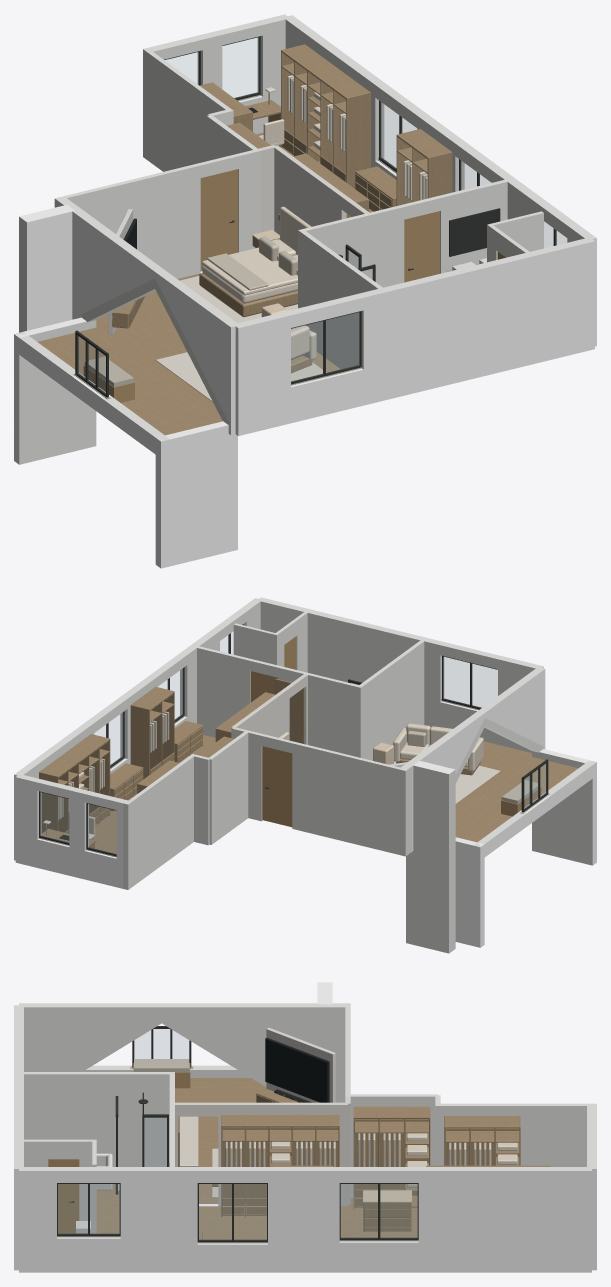
3 views of the same model, one above another, from view 1: azimuth 30°, elevation 25°; view 2: azimuth 150°, elevation 25°; view 3: azimuth 270°, elevation 25° (orthographic). The views are drawn at different scales.
Visible parts, largest first — view 1: Proposal | New wing south upper end pier, Proposal | Garage wing south return, Proposal | West upper principal facade above wing roof, Proposal | Principal suite north partition pier 0, Proposal | Garage wing north return, Proposal | Entrance bay south return, Proposal | New wing south upper pier 0, Proposal | Guest bathroom west, Suite layout | floor 0, Proposal | Principal bathroom west wall, Proposal | Principal bathroom partition pier 0, Suite layout | floor 1 (+42 smaller); view 2: Proposal | Principal suite north partition pier 0, Proposal | Entrance bay south return, Proposal | New wing south upper end pier, Proposal | Principal bathroom west wall, Proposal | West upper principal facade above wing roof, Proposal | Guest bathroom west, Proposal | Garage wing south return, Proposal | Principal bathroom partition pier 0, Proposal | Principal bathroom partition end pier, Proposal | Principal study west wall, Suite layout | floor 0, Proposal | Garage wing north return (+42 smaller); view 3: Proposal | New wing east upper end pier, Proposal | West upper principal facade above wing roof, Proposal | Principal bathroom west wall, Proposal | New wing east upper pier 1, Proposal | New wing east upper pier 2, Proposal | Guest bathroom west, Proposal | New wing east upper window 2 glass, Proposal | New wing east upper pier 0, Proposal | New wing east upper window 1 glass, Proposal | New wing east upper window 0 glass, Suite layout | TV screen, Suite layout | bedroom east wall (+42 smaller).
Part boxes in pixels (x1=…): Proposal | New wing south upper end pier: x1=358, y1=237, x2=594, y2=405; Proposal | Garage wing south return: x1=155, y1=421, x2=237, y2=568; Proposal | West upper principal facade above wing roof: x1=81, y1=216, x2=237, y2=421; Proposal | Principal suite north partition pier 0: x1=64, y1=163, x2=200, y2=278; Proposal | Garage wing north return: x1=14, y1=317, x2=96, y2=464; Proposal | Entrance bay south return: x1=19, y1=203, x2=81, y2=332; Proposal | New wing south upper pier 0: x1=233, y1=311, x2=290, y2=435; Proposal | Guest bathroom west: x1=145, y1=50, x2=231, y2=171; Suite layout | floor 0: x1=38, y1=327, x2=222, y2=435; Proposal | Principal bathroom west wall: x1=298, y1=229, x2=384, y2=369; Proposal | Principal bathroom partition pier 0: x1=298, y1=205, x2=404, y2=308; Suite layout | floor 1: x1=96, y1=273, x2=340, y2=419; Proposal | Principal suite north partition pier 0: x1=292, y1=741, x2=400, y2=854; Proposal | Entrance bay south return: x1=406, y1=761, x2=455, y2=953; Proposal | New wing south upper end pier: x1=257, y1=597, x2=444, y2=727; Proposal | Principal bathroom west wall: x1=357, y1=640, x2=424, y2=760; Proposal | West upper principal facade above wing roof: x1=420, y1=668, x2=543, y2=774; Proposal | Guest bathroom west: x1=127, y1=754, x2=193, y2=885; Proposal | Garage wing south return: x1=532, y1=749, x2=596, y2=865; Proposal | Principal bathroom partition pier 0: x1=278, y1=666, x2=362, y2=757; Proposal | Principal bathroom partition end pier: x1=197, y1=646, x2=251, y2=737; Proposal | Principal study west wall: x1=208, y1=730, x2=248, y2=844; Suite layout | floor 0: x1=455, y1=757, x2=577, y2=842; Proposal | Garage wing north return: x1=455, y1=837, x2=484, y2=947; Proposal | New wing east upper end pier: x1=418, y1=1167, x2=591, y2=1272; Proposal | West upper principal facade above wing roof: x1=23, y1=1003, x2=299, y2=1076; Proposal | Principal bathroom west wall: x1=19, y1=1072, x2=174, y2=1166; Proposal | New wing east upper pier 1: x1=120, y1=1167, x2=197, y2=1272; Proposal | New wing east upper pier 2: x1=268, y1=1167, x2=339, y2=1272; Proposal | Guest bathroom west: x1=438, y1=1103, x2=591, y2=1166; Proposal | New wing east upper window 2 glass: x1=341, y1=1184, x2=417, y2=1237; Proposal | New wing east upper pier 0: x1=19, y1=1167, x2=56, y2=1272; Proposal | New wing east upper window 1 glass: x1=199, y1=1184, x2=266, y2=1239; Proposal | New wing east upper window 0 glass: x1=58, y1=1184, x2=119, y2=1233; Suite layout | TV screen: x1=265, y1=1039, x2=327, y2=1102; Suite layout | bedroom east wall: x1=218, y1=1102, x2=347, y2=1206.
Bounding box in the file's own units: 10.72 × 5.35 × 13.28.
17 materials, 3 textured.
